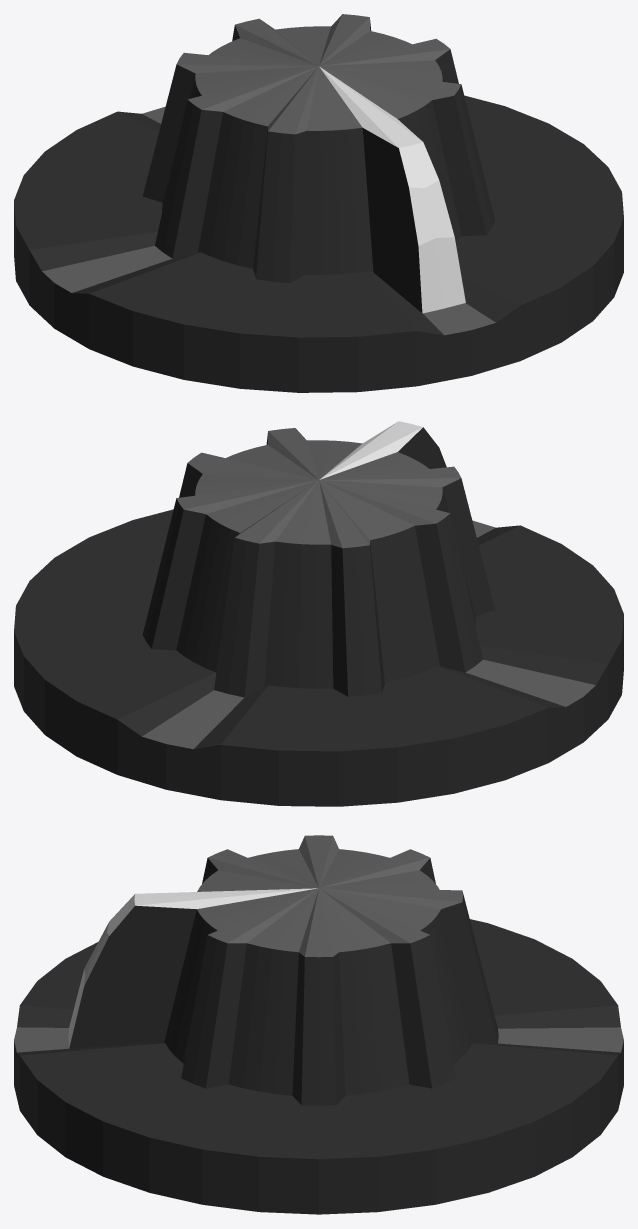
Rendered from dial3_fbx.fbx.
3 views of the same model, one above another, from view 1: azimuth 30°, elevation 25°; view 2: azimuth 150°, elevation 25°; view 3: azimuth 270°, elevation 25° (orthographic).
Parts seen in each view (by area): view 1: Base, Rotator; view 2: Base, Rotator; view 3: Base, Rotator.
Boxes of the visible parts, left/top/right/bottom form: Base: left=14, top=95, right=623, bottom=392; Rotator: left=143, top=14, right=495, bottom=313; Base: left=14, top=509, right=623, bottom=806; Rotator: left=142, top=421, right=495, bottom=697; Base: left=14, top=919, right=623, bottom=1214; Rotator: left=68, top=835, right=498, bottom=1105.
Bounding box in the file's own units: 200 × 71.41 × 200.
Materials: 1 (1 with a texture image).
